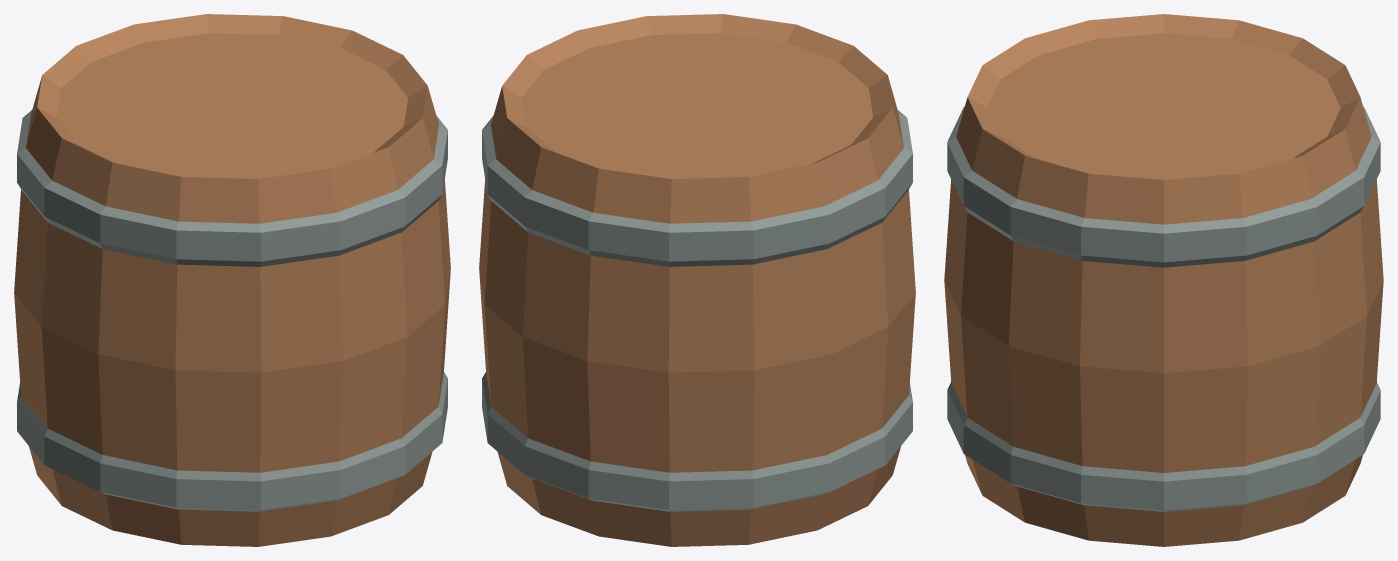
The model's file is barrel.glb.
3 renders of one model, left to right at view 1: azimuth 30°, elevation 25°; view 2: azimuth 150°, elevation 25°; view 3: azimuth 270°, elevation 25°, orthographic.
Parts seen in each view (by area): view 1: barrel1; view 2: barrel1; view 3: barrel1.
Part boxes in pixels (<box>): barrel1: <box>14,14,450,546</box>; barrel1: <box>479,14,915,546</box>; barrel1: <box>944,14,1383,546</box>.
Bounding box in the file's own units: 0.9677 × 0.8916 × 0.9677.
